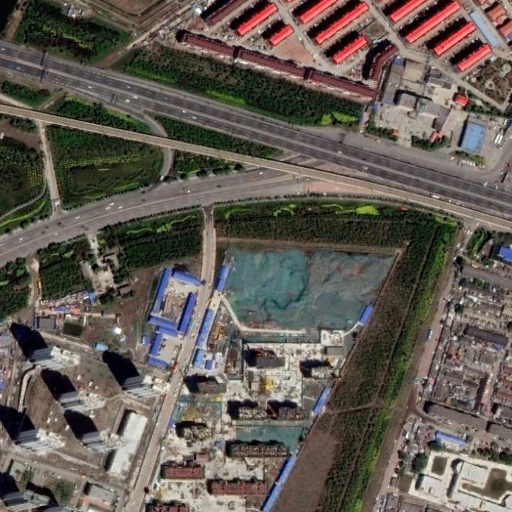cw: (214, 242, 398, 346), (234, 424, 306, 453)
